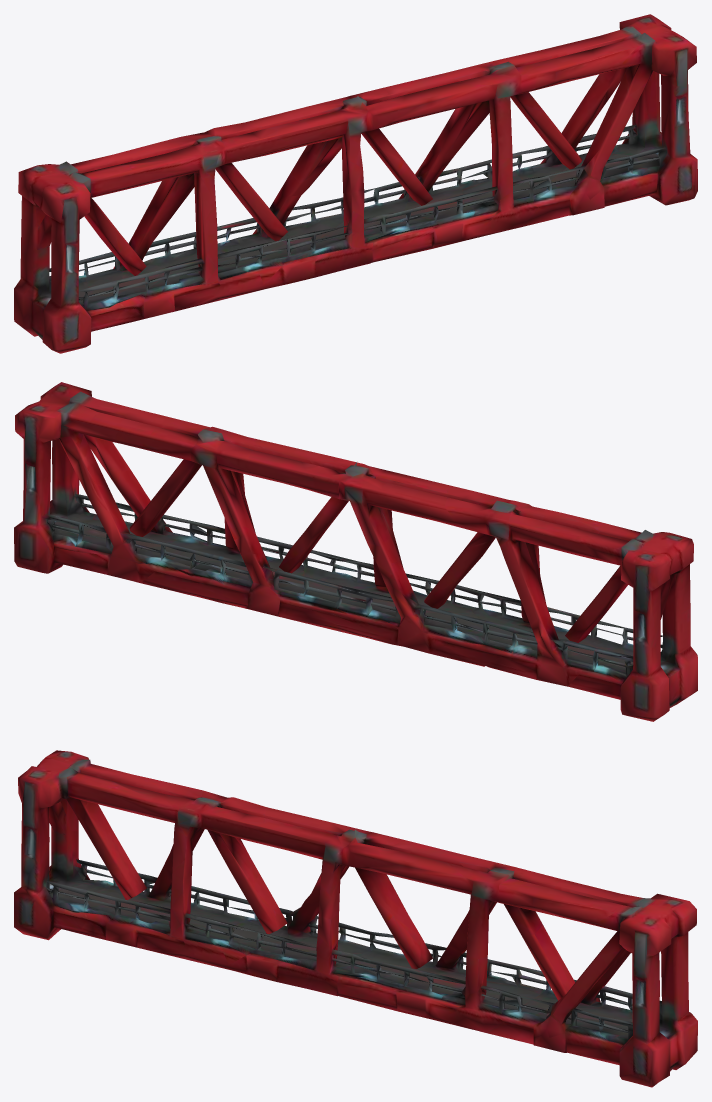
File: env-bridge.glb
The picture shows the model from 3 angles, top to bottom: view 1: azimuth 30°, elevation 25°; view 2: azimuth 150°, elevation 25°; view 3: azimuth 330°, elevation 25°; orthographic projection.
Parts seen in each view (by area): view 1: env-bridge; view 2: env-bridge; view 3: env-bridge.
Boxes of the visible parts, <box> form: env-bridge: <box>14,14,697,353</box>; env-bridge: <box>14,382,697,721</box>; env-bridge: <box>14,750,697,1087</box>.
Size of the model in its own units: 12 by 3.02 by 1.53.
Materials: 1 (1 with a texture image).
